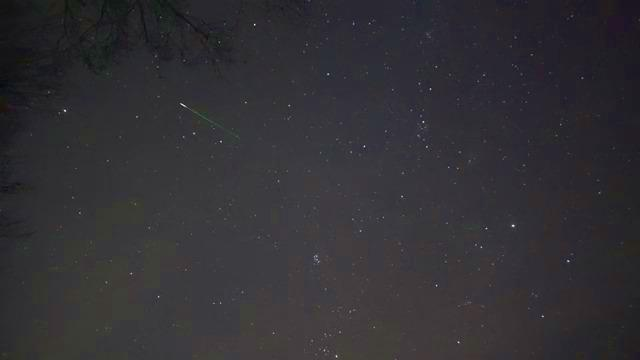meteorite: (162, 97, 247, 136)
